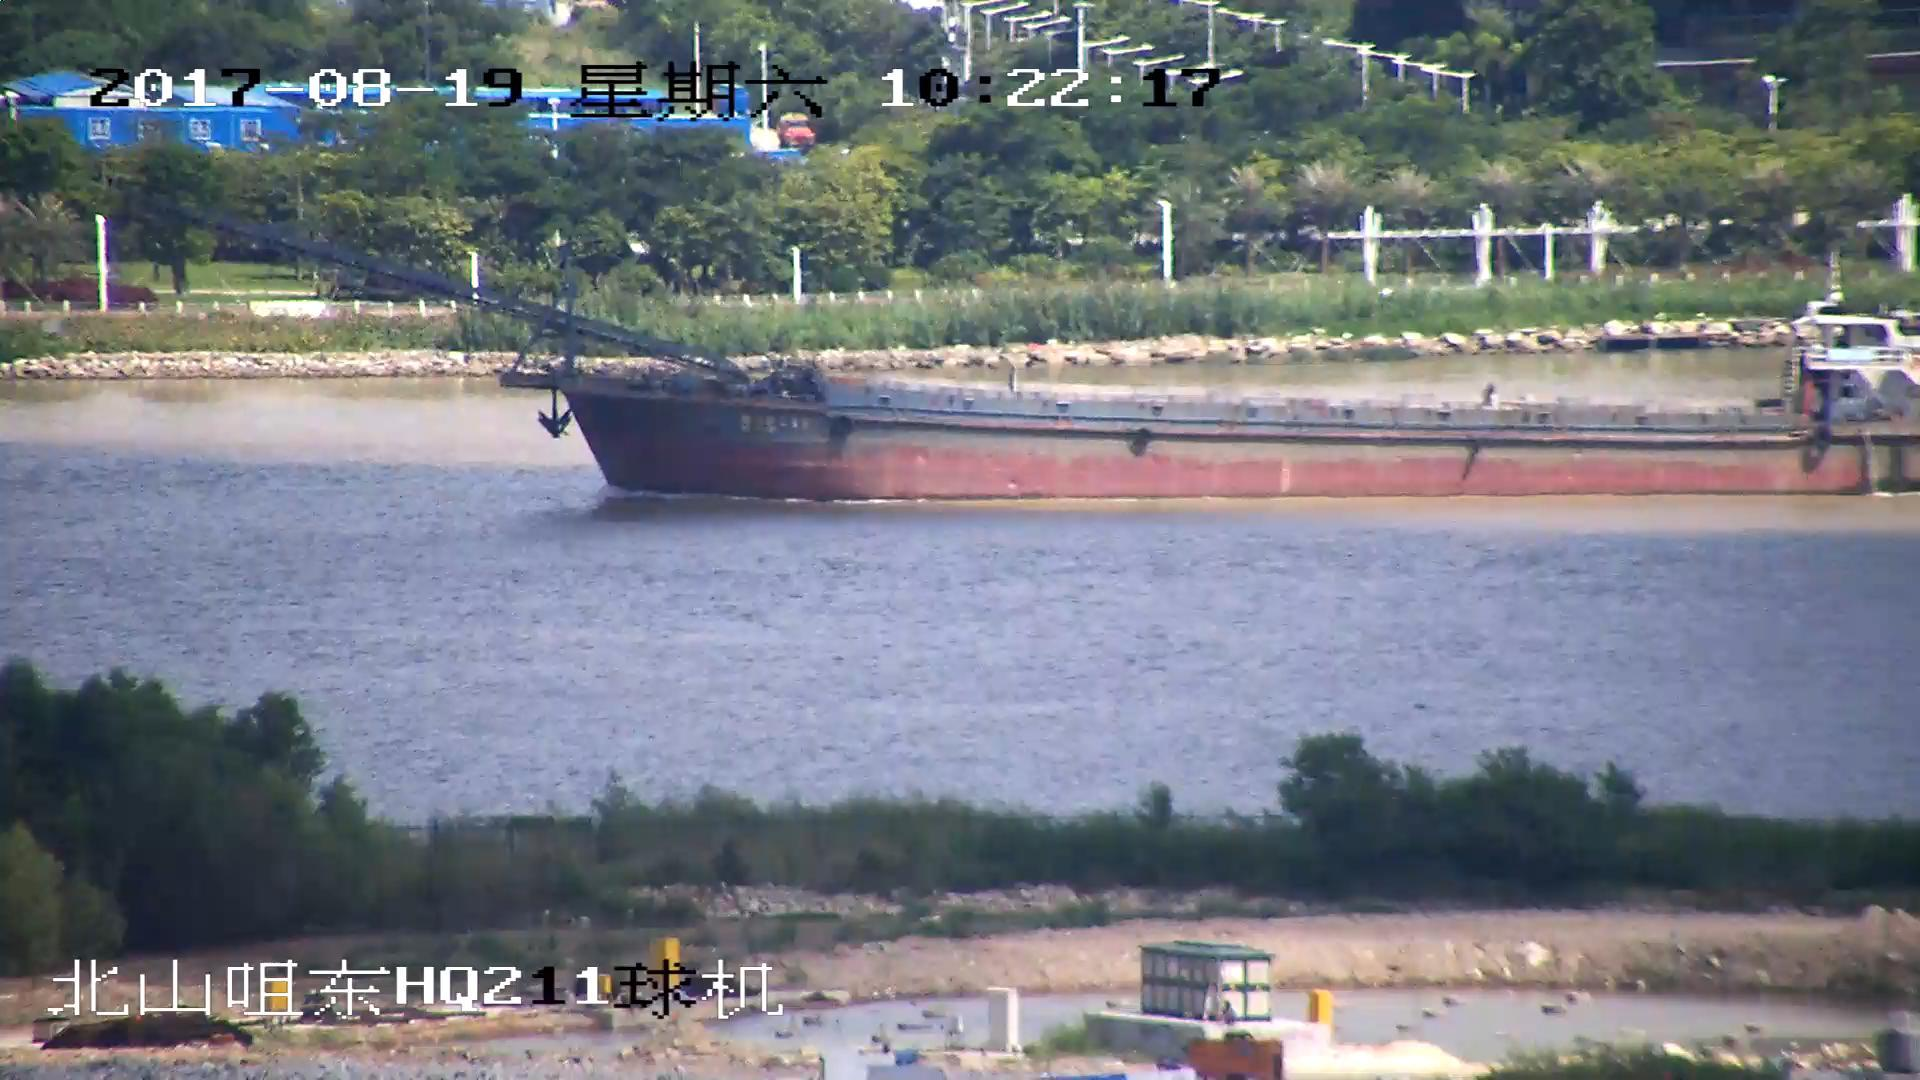Ship: (169, 206, 1920, 502)
